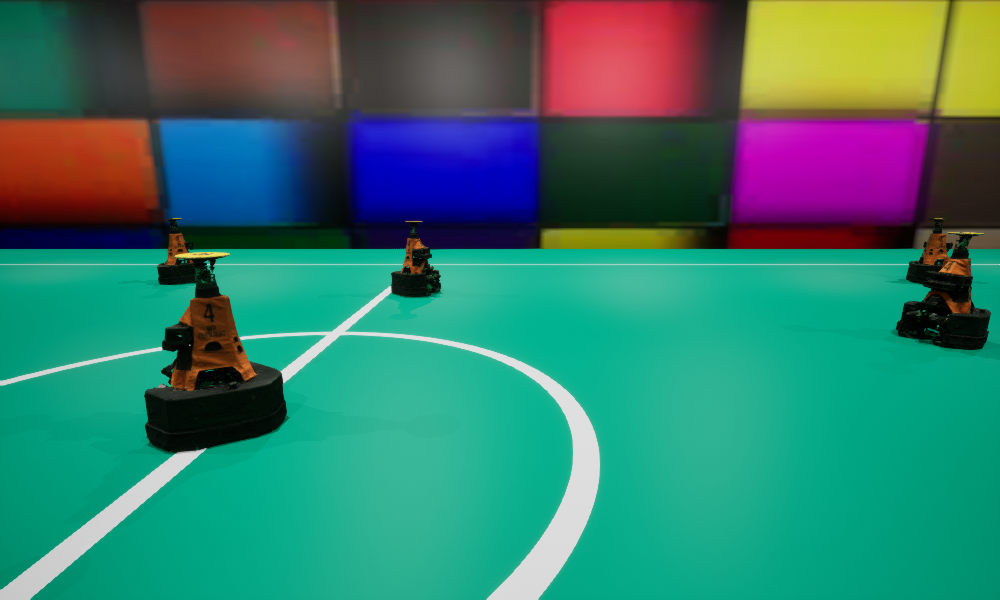0 orange robot TechUnited: (144, 252, 286, 451), (896, 232, 990, 348), (391, 221, 440, 296), (157, 218, 203, 284), (906, 218, 952, 283)
